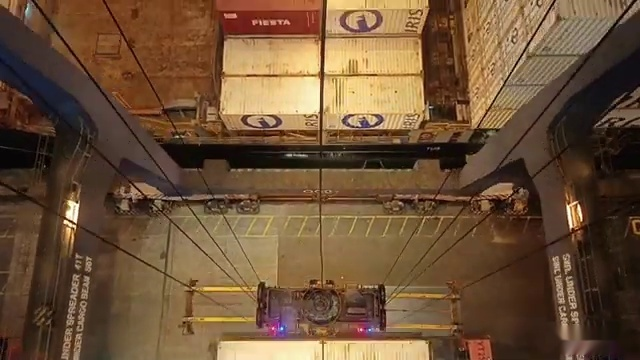container: (219, 77, 425, 135), (220, 36, 424, 78), (214, 0, 430, 36), (208, 2, 436, 32), (210, 335, 437, 360), (210, 0, 435, 21), (213, 0, 436, 21), (213, 0, 437, 17)
guide_mark: (75, 340, 550, 360), (113, 216, 541, 236)
spreader: (176, 276, 468, 344)
target_slot: (176, 271, 469, 343)
